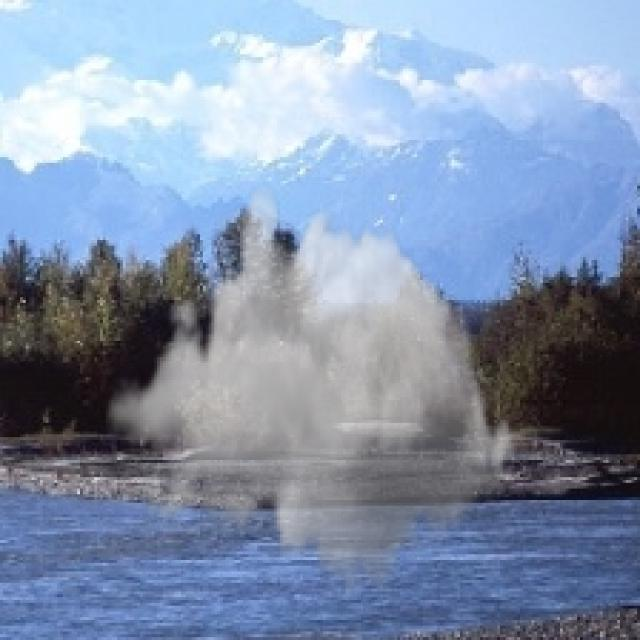Smoke: (106, 180, 520, 600)
